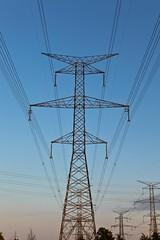power_tower: (21, 45, 130, 240)
